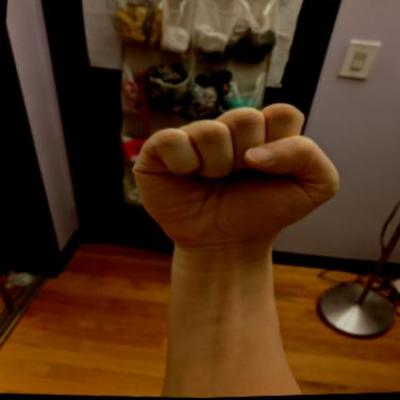hand: (123, 90, 350, 263)
